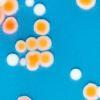orange: (39, 52, 56, 70), (34, 19, 50, 35), (2, 0, 19, 15), (82, 84, 99, 99), (26, 53, 40, 69), (4, 18, 18, 34), (37, 36, 51, 50), (76, 0, 97, 8), (26, 37, 38, 50), (17, 40, 27, 51), (0, 8, 5, 25), (25, 0, 35, 8), (16, 96, 32, 100)
white: (33, 3, 46, 16), (6, 53, 18, 66), (70, 68, 81, 80), (19, 58, 27, 69)
